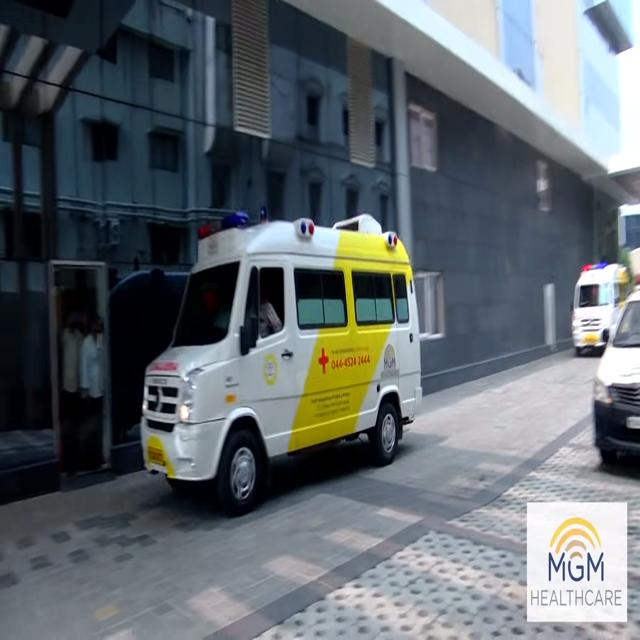emergency-vehicles: (124, 197, 433, 530)
